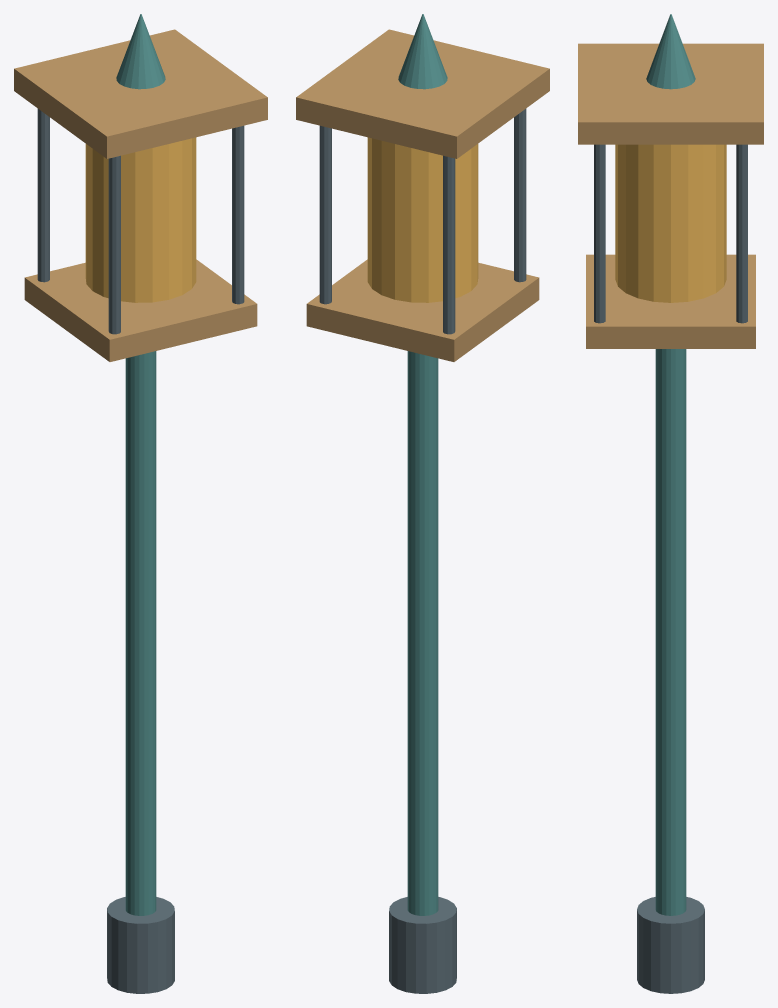
The model's file is HarborLantern.glb.
3 renders of one model, left to right at view 1: azimuth 30°, elevation 25°; view 2: azimuth 150°, elevation 25°; view 3: azimuth 270°, elevation 25°, orthographic.
Parts seen in each view (by area): view 1: HarborLantern; view 2: HarborLantern; view 3: HarborLantern.
Boxes of the visible parts, x1=… form: HarborLantern: x1=14, y1=14, x2=267, y2=993; HarborLantern: x1=296, y1=14, x2=549, y2=993; HarborLantern: x1=578, y1=14, x2=763, y2=993.
Bounding box in the file's own units: 0.6 × 3.44 × 0.6.
